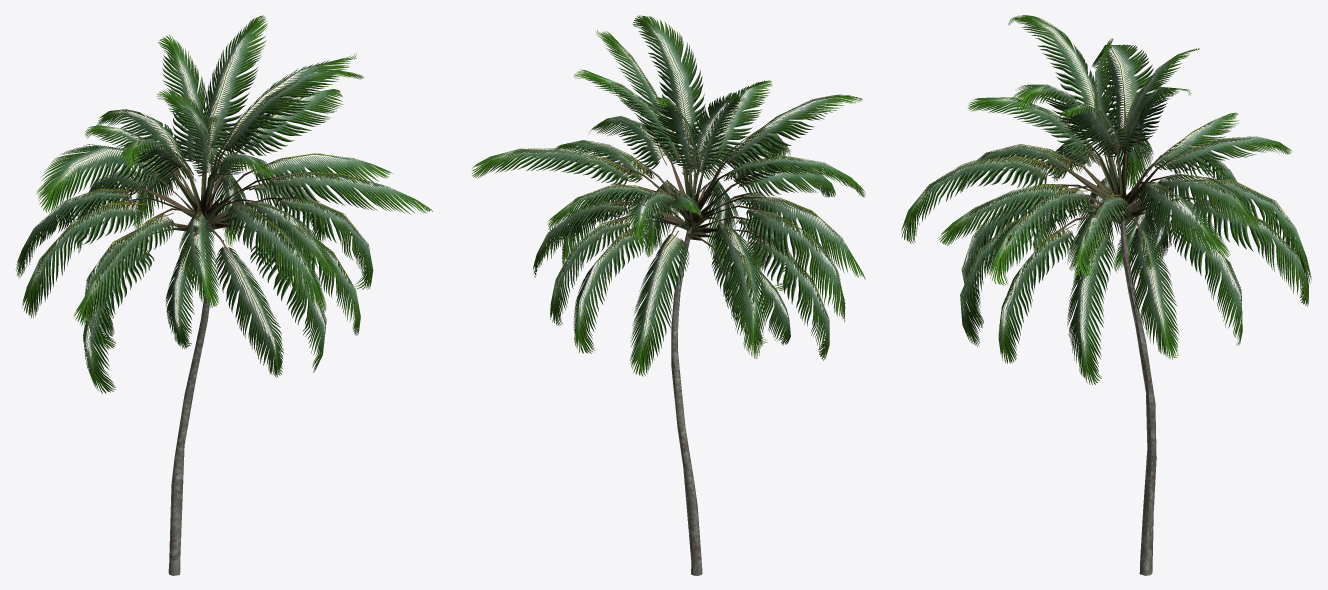
The model's file is palma_0.glb.
The picture shows the model from 3 angles, left to right: view 1: azimuth 30°, elevation 25°; view 2: azimuth 150°, elevation 25°; view 3: azimuth 270°, elevation 25°; orthographic projection. The views are drawn at different scales.
Visible parts, largest first — view 1: SM_MZRa_Palm_B081_MI_MZRa_Palm_B08a_0, SM_MZRa_Palm_B081_MI_MZRa_Palm_B08b_0; view 2: SM_MZRa_Palm_B081_MI_MZRa_Palm_B08a_0, SM_MZRa_Palm_B081_MI_MZRa_Palm_B08b_0; view 3: SM_MZRa_Palm_B081_MI_MZRa_Palm_B08a_0, SM_MZRa_Palm_B081_MI_MZRa_Palm_B08b_0.
Part boxes in pixels (x1=…): SM_MZRa_Palm_B081_MI_MZRa_Palm_B08a_0: x1=15, y1=15, x2=432, y2=393; SM_MZRa_Palm_B081_MI_MZRa_Palm_B08b_0: x1=100, y1=123, x2=303, y2=575; SM_MZRa_Palm_B081_MI_MZRa_Palm_B08a_0: x1=472, y1=15, x2=865, y2=376; SM_MZRa_Palm_B081_MI_MZRa_Palm_B08b_0: x1=605, y1=113, x2=780, y2=575; SM_MZRa_Palm_B081_MI_MZRa_Palm_B08a_0: x1=901, y1=15, x2=1311, y2=385; SM_MZRa_Palm_B081_MI_MZRa_Palm_B08b_0: x1=1024, y1=99, x2=1226, y2=575.
Bounding box in the file's own units: 3.74 × 5.01 × 3.5.
2 materials, 2 textured.
